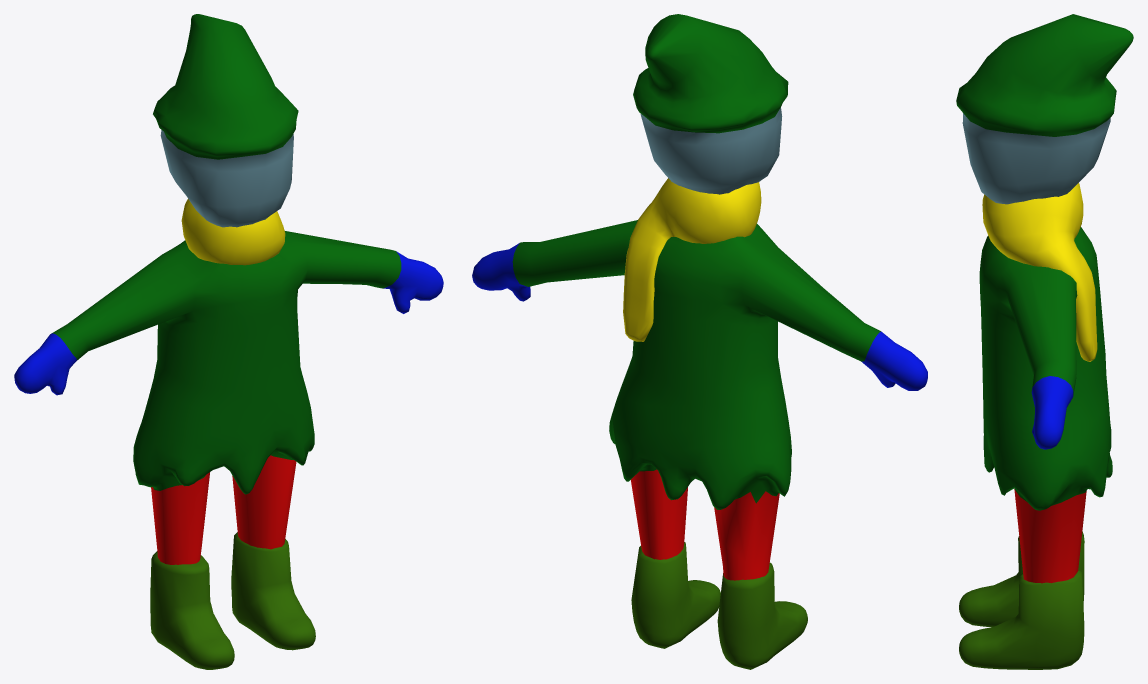
File: Character_01_SarahReynolds.FBX
3 renders of one model, left to right at view 1: azimuth 30°, elevation 25°; view 2: azimuth 150°, elevation 25°; view 3: azimuth 270°, elevation 25°, orthographic. The views are drawn at different scales.
Parts seen in each view (by area): view 1: FullBody; view 2: FullBody; view 3: FullBody.
Boxes of the visible parts, box(x1,y1,x2,y2) form: FullBody: box(14, 14, 443, 669); FullBody: box(472, 14, 927, 669); FullBody: box(956, 14, 1133, 669).
Bounding box in the file's own units: 72.04 × 97.34 × 24.81.
